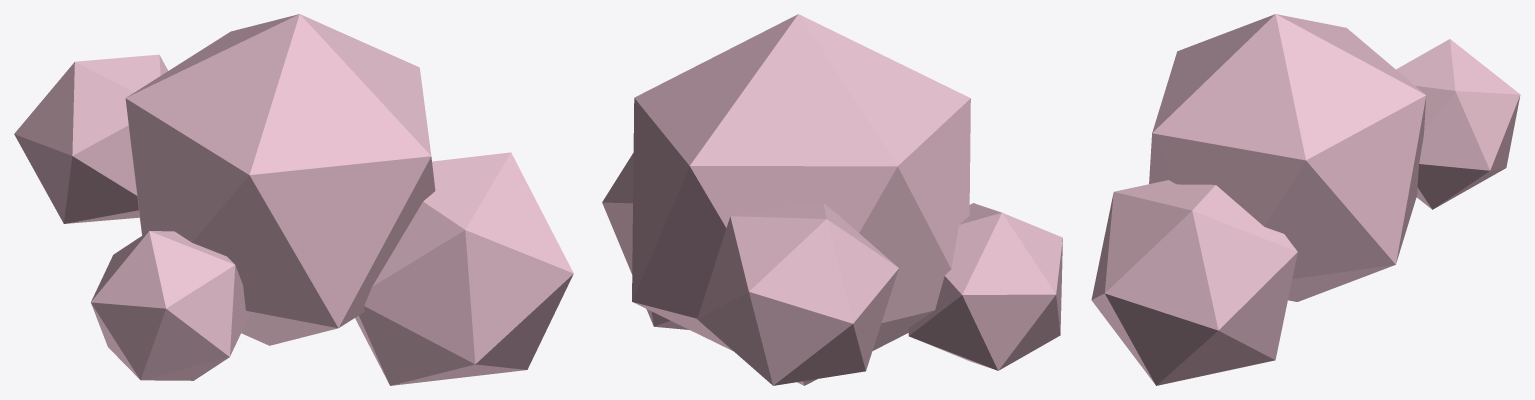
Rendered from bush_Dead.fbx.
3 renders of one model, left to right at view 1: azimuth 30°, elevation 25°; view 2: azimuth 150°, elevation 25°; view 3: azimuth 270°, elevation 25°, orthographic. The views are drawn at different scales.
Parts seen in each view (by area): view 1: Tree_lp_11.001; view 2: Tree_lp_11.001; view 3: Tree_lp_11.001.
Boxes of the visible parts, <box> form: Tree_lp_11.001: <box>14,14,573,385</box>; Tree_lp_11.001: <box>602,14,1062,385</box>; Tree_lp_11.001: <box>1091,14,1520,385</box>.
Size of the model in its own units: 759 by 574 by 724.
